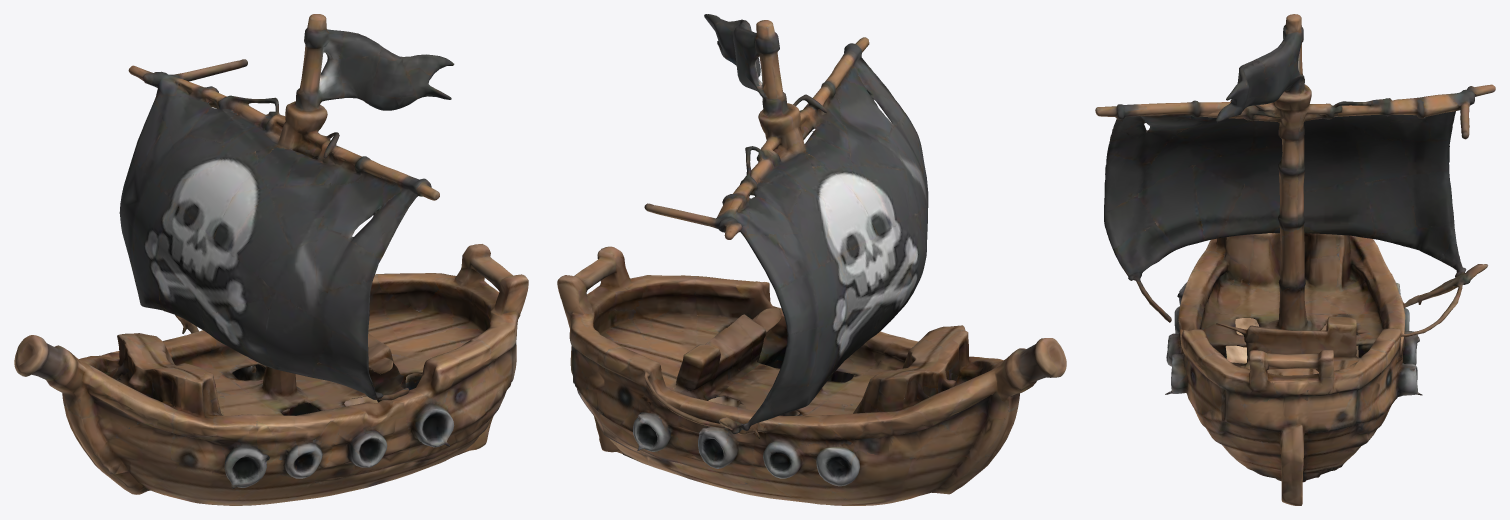
File: pirate-ship.glb
3 renders of one model, left to right at view 1: azimuth 30°, elevation 25°; view 2: azimuth 150°, elevation 25°; view 3: azimuth 270°, elevation 25°, orthographic. The views are drawn at different scales.
Size of the model in its own units: 2 by 1.84 by 1.59.
1 material, 1 textured.
